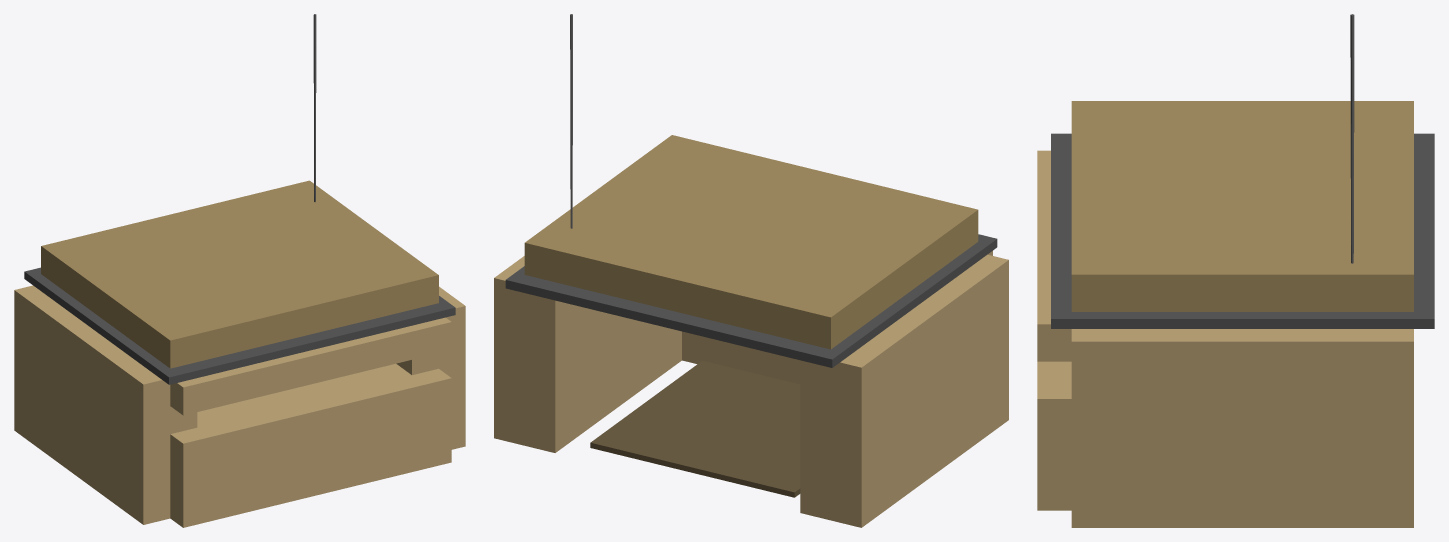
Rendered from sandbag-bunker.glb.
The picture shows the model from 3 angles, left to right: view 1: azimuth 30°, elevation 25°; view 2: azimuth 150°, elevation 25°; view 3: azimuth 270°, elevation 25°; orthographic projection. The views are drawn at different scales.
Visible parts, largest first — view 1: Mesh_RoofSandbags, Mesh_FrontLower, Mesh_LeftWall, Mesh_FrontUpper, Mesh_RoofPSP, Mesh_RightWall, Mesh_Antenna; view 2: Mesh_RoofSandbags, Mesh_LeftWall, Mesh_RightWall, Mesh_Floor, Mesh_RoofPSP, Mesh_FrontLower, Mesh_Antenna; view 3: Mesh_RoofSandbags, Mesh_RightWall, Mesh_RoofPSP, Mesh_FrontLower, Mesh_FrontUpper, Mesh_Antenna.
Boxes of the visible parts, left/top/right/bottom form: Mesh_RoofSandbags: left=41, top=180, right=438, bottom=368; Mesh_FrontLower: left=170, top=363, right=451, bottom=527; Mesh_LeftWall: left=14, top=285, right=197, bottom=524; Mesh_FrontUpper: left=170, top=317, right=451, bottom=415; Mesh_RoofPSP: left=24, top=267, right=455, bottom=384; Mesh_RightWall: left=396, top=286, right=465, bottom=449; Mesh_Antenna: left=313, top=14, right=316, bottom=202; Mesh_RoofSandbags: left=524, top=135, right=978, bottom=349; Mesh_LeftWall: left=800, top=254, right=1008, bottom=527; Mesh_RightWall: left=494, top=256, right=681, bottom=452; Mesh_Floor: left=590, top=360, right=800, bottom=497; Mesh_RoofPSP: left=505, top=234, right=997, bottom=367; Mesh_FrontLower: left=682, top=331, right=800, bottom=384; Mesh_Antenna: left=570, top=14, right=572, bottom=228; Mesh_RoofSandbags: left=1071, top=101, right=1413, bottom=311; Mesh_RightWall: left=1071, top=329, right=1413, bottom=527; Mesh_RoofPSP: left=1051, top=133, right=1434, bottom=328; Mesh_FrontLower: left=1037, top=361, right=1071, bottom=510; Mesh_FrontUpper: left=1037, top=150, right=1071, bottom=361; Mesh_Antenna: left=1350, top=14, right=1354, bottom=263.
Size of the model in its own units: 3.6 by 3.91 by 2.9.
